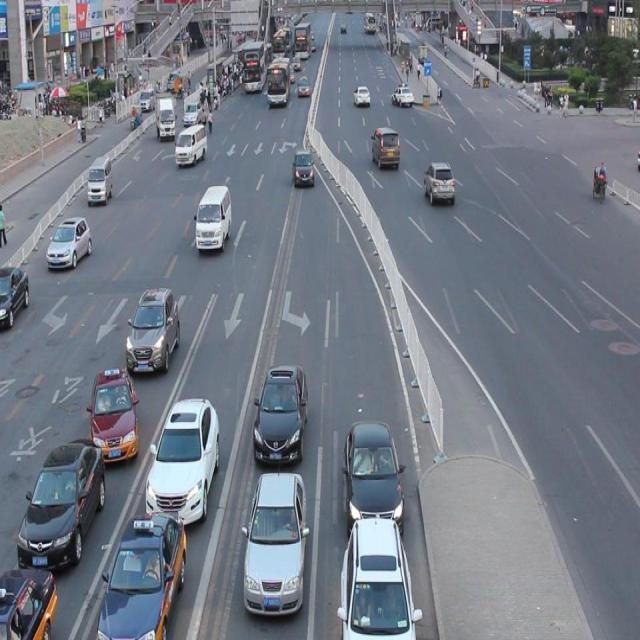car: (95, 505, 187, 640), (17, 434, 106, 571), (339, 511, 418, 640), (241, 464, 308, 615), (144, 393, 220, 524), (342, 412, 402, 528), (252, 359, 308, 464), (124, 282, 180, 375), (89, 363, 140, 464), (1, 564, 58, 640), (46, 215, 92, 269), (1, 266, 30, 328), (424, 162, 454, 206), (293, 148, 314, 189)
truck: (195, 184, 232, 251), (174, 124, 207, 166), (88, 155, 113, 205)
